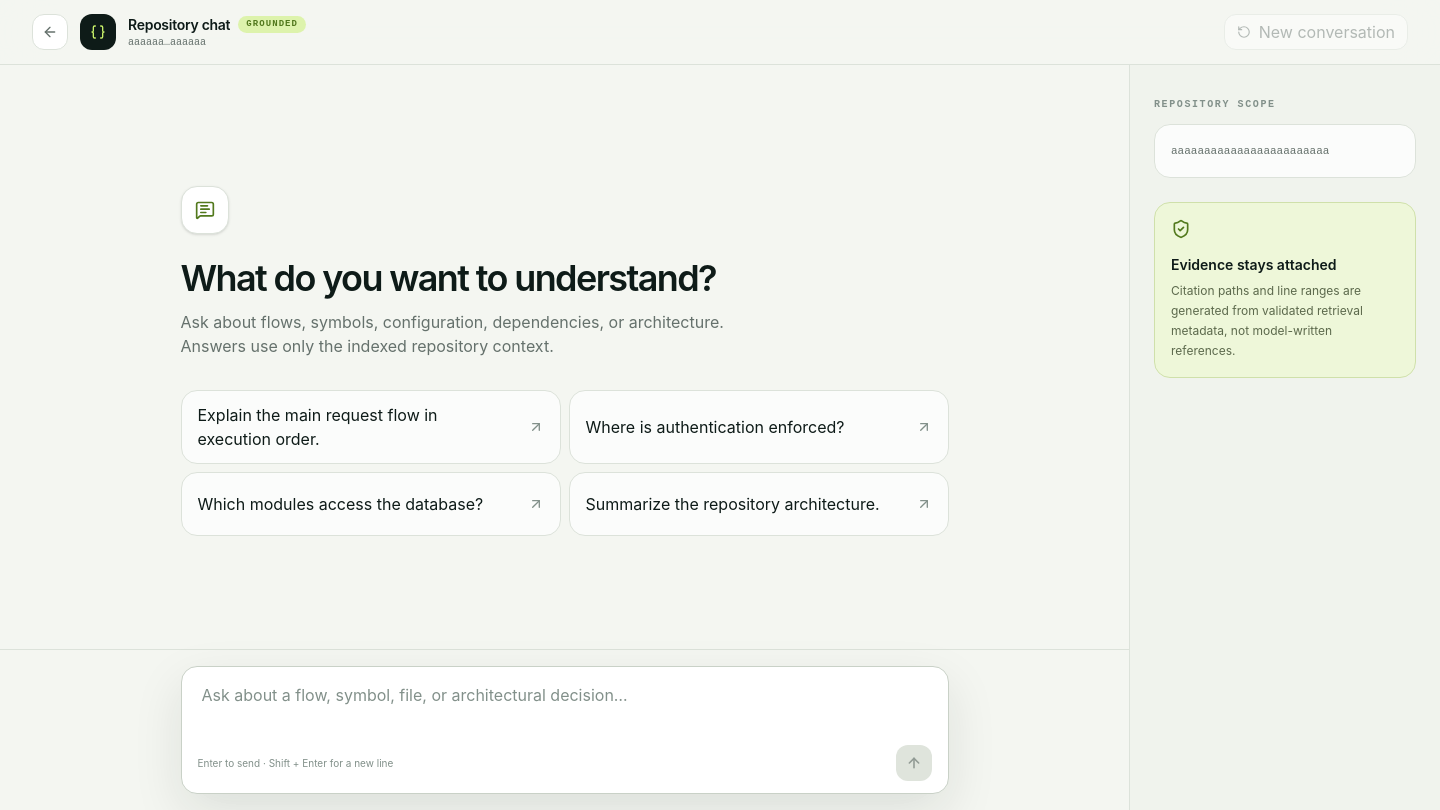
RepositoryChat › shows an actionable authentication error and retries without duplicating the question
The width and height of the screenshot is (1440, 810).
Type "Explain authentication" into the text box named "Ask a question about this repository".
click(564, 707); type("Explain authentication")  # box left=190, top=675, right=940, bottom=739
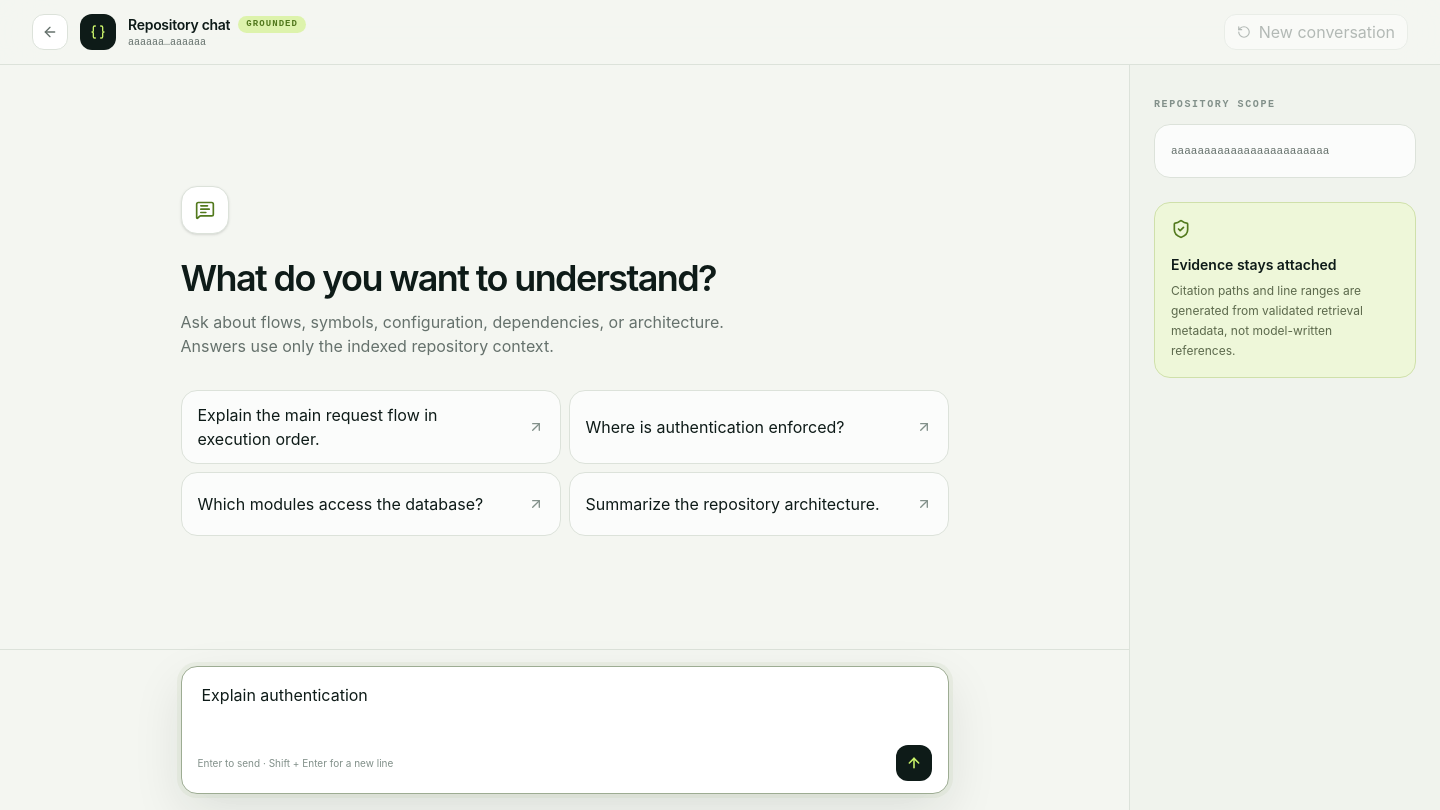
Press Enter
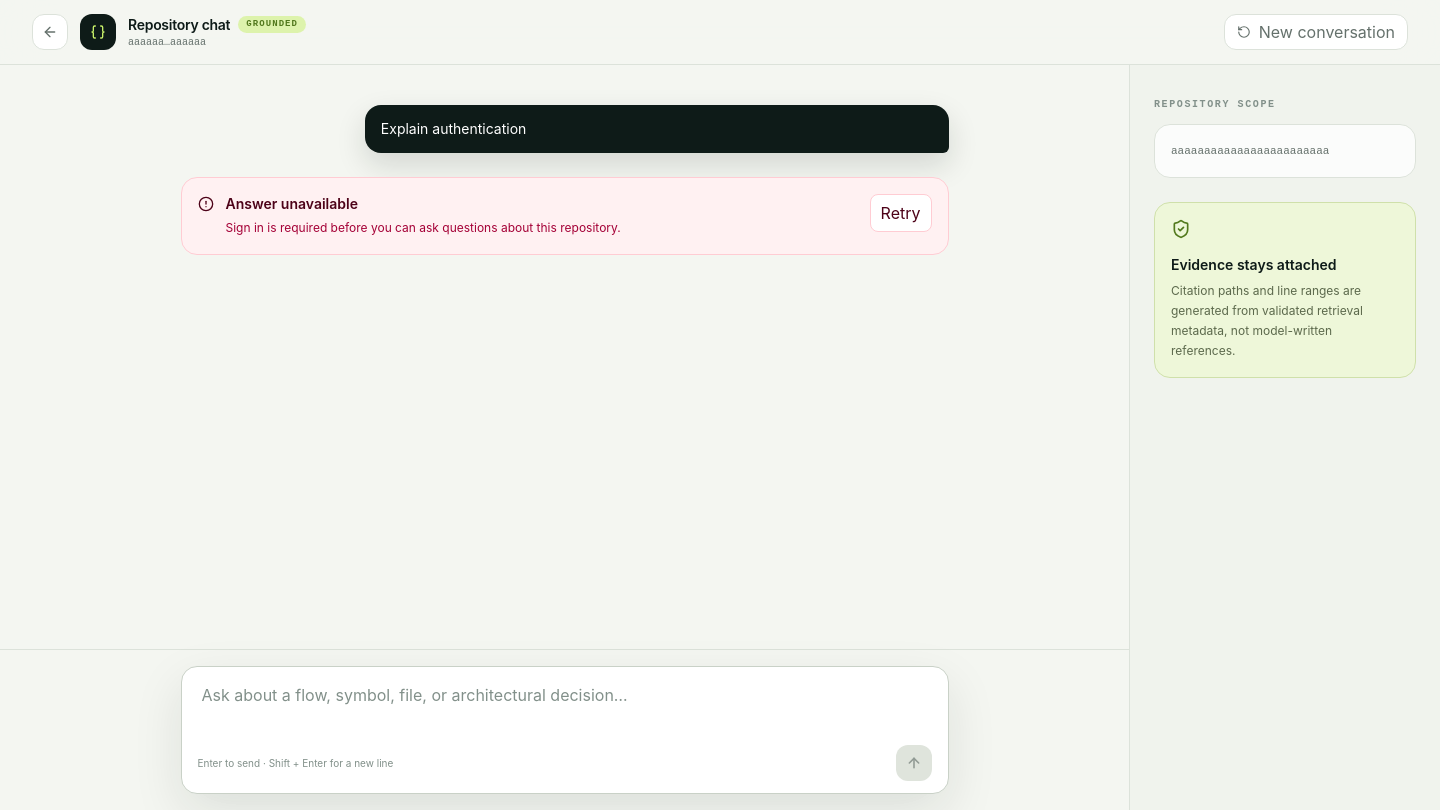
Expected: the message shows "Sign in", left=226, top=220, right=621, bottom=235
Expected: the text "Explain authentication" is shown once, left=365, top=105, right=948, bottom=153
Click the button "Retry".
click(901, 213)  # box left=870, top=194, right=932, bottom=232
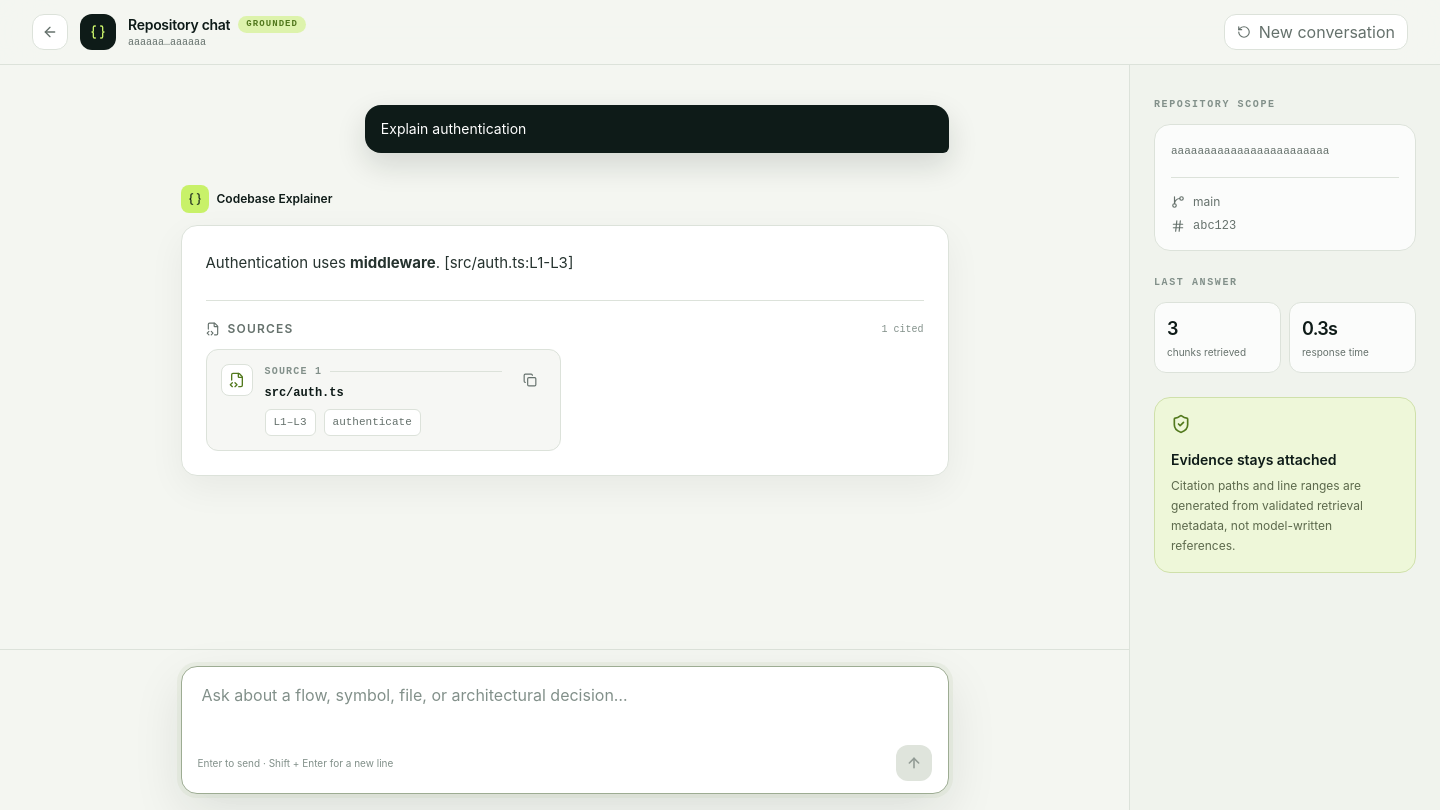
Expected: the text "middleware" is shown, left=350, top=253, right=436, bottom=272
Expected: the text "Explain authentication" is shown once, left=365, top=105, right=948, bottom=153
